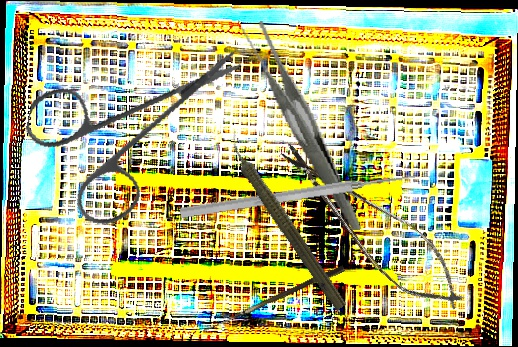Dressing Forceps: (239, 10, 362, 244)
Handpiece: (218, 128, 354, 314)
Hook Surgical: (202, 262, 346, 339)
Iris Scissors: (8, 10, 244, 247)
Micro Scissor: (265, 129, 478, 325)
Pusher: (179, 168, 417, 222)
